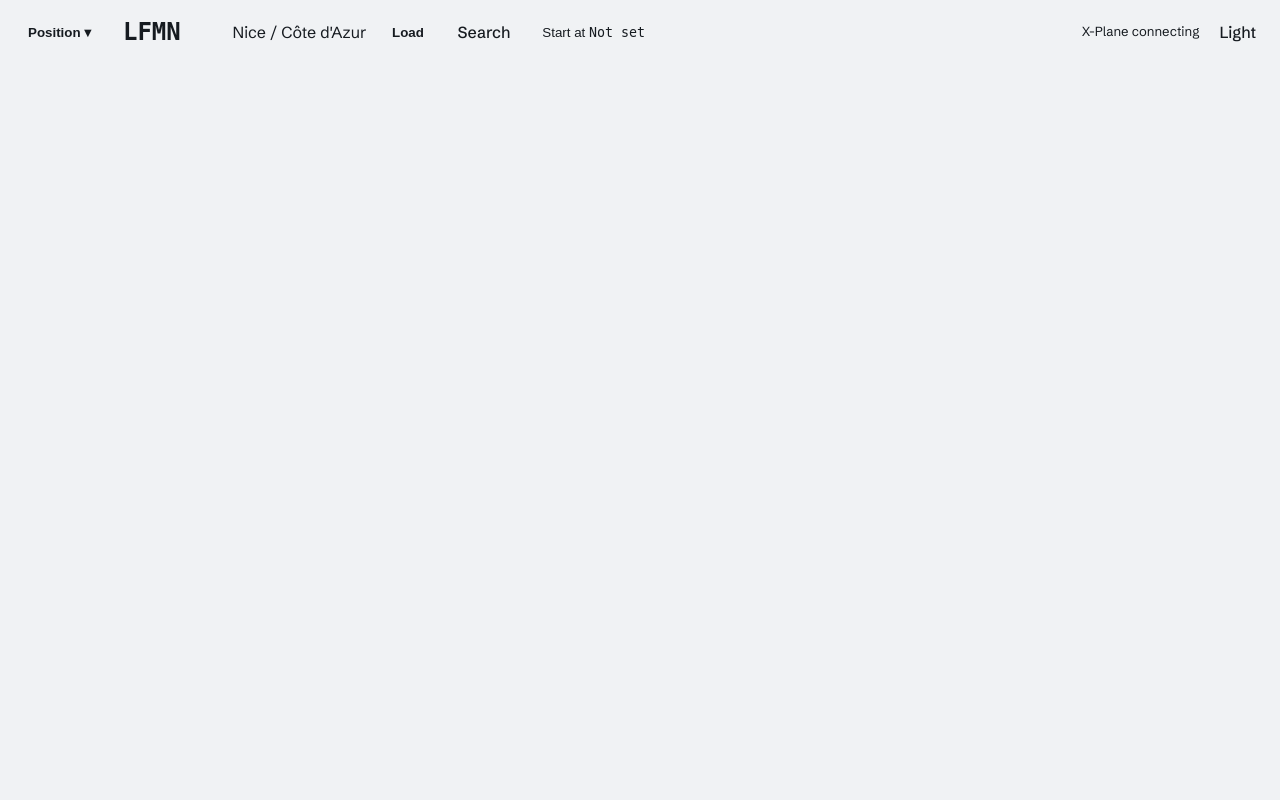
it: StartAtPopover › a pointer press outside the popover closes it
Click the button "Start at Not set" at (594, 32), box [530,10,657,54]
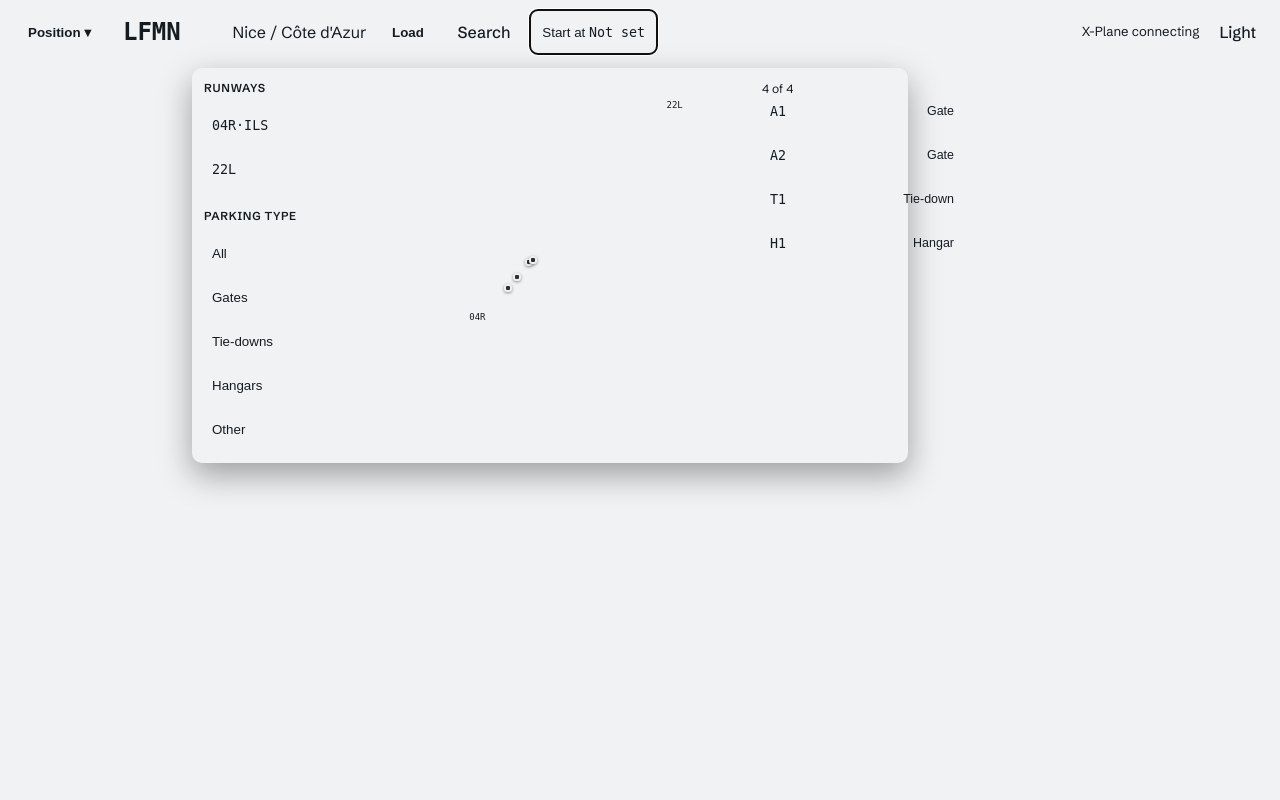
Check: the dialog is shown, box [192,68,908,463]
Press the mouse on the element that starts with "Position ▾" at (640, 400), box [0,0,1279,799]
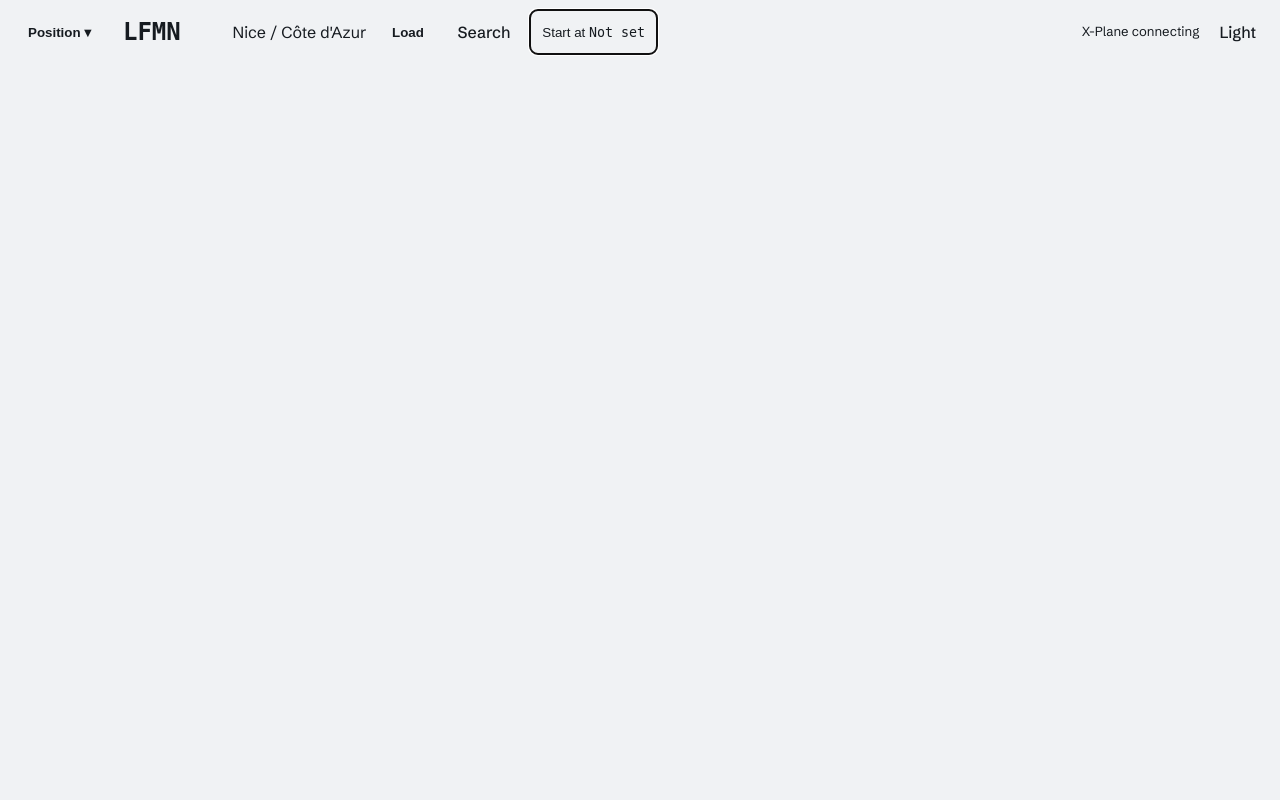
Check: the dialog is gone
